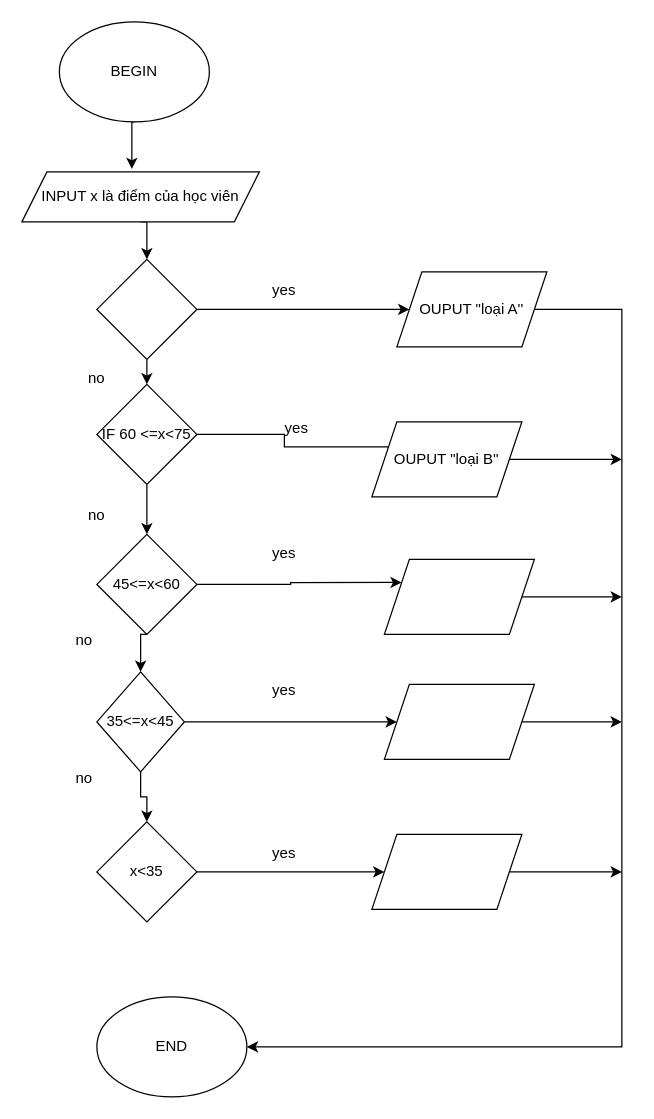
The diagram is 654 pixels wide and 1119 high, and some of its shapes have lost their labels. The shapes that lost their labels are listed below. From the top down, each one's centre as x and y in pixels, then its label:
(x=146, y=308): IF x>=75
(x=458, y=596): OUPUT "loại C''
(x=458, y=721): OUPUT "loại D''
(x=446, y=871): OUPUT "loại E''
